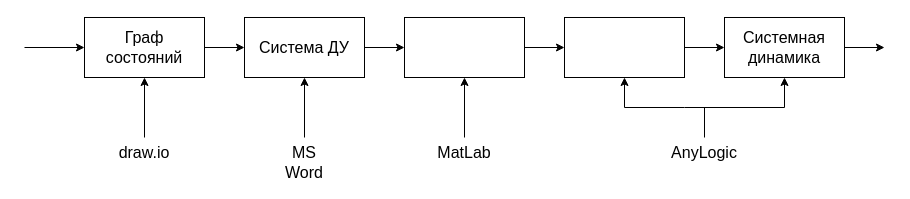
Some shapes in this 910 by 199 pixel diagram are drawn without their labels. The shapes that lost their labels are listed below. From the top down, each one's centre as x and y in pixels, then its label:
At [464,47]: "Проверка на стационарность".
At [624,47]: "Диаграмма состояний".
